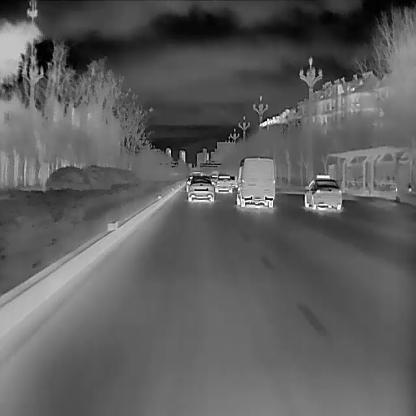car: (236, 157, 275, 208), (304, 174, 341, 210), (186, 177, 214, 202), (215, 174, 232, 192)
